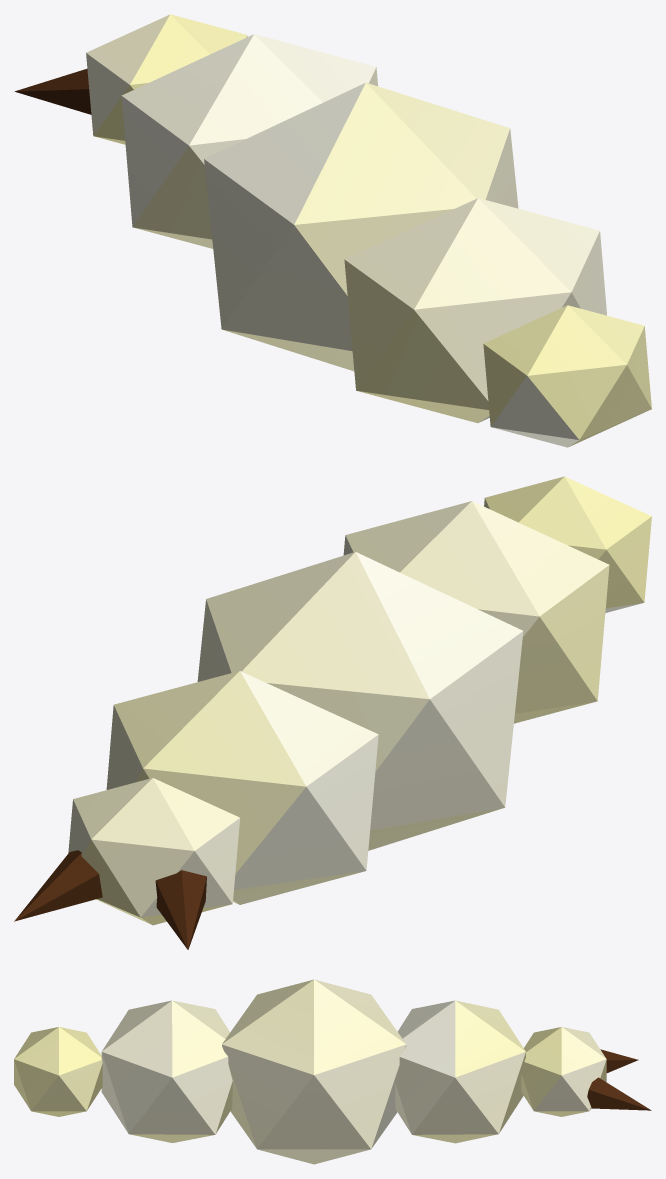
File: larva_pivot_point.fbx
The picture shows the model from 3 angles, top to bottom: view 1: azimuth 30°, elevation 25°; view 2: azimuth 150°, elevation 25°; view 3: azimuth 270°, elevation 25°; orthographic projection. The views are drawn at different scales.
Visible parts, largest first — view 1: Icosphere.016; view 2: Icosphere.016; view 3: Icosphere.016.
Boxes of the visible parts, x1,y1,x2,y2 form: Icosphere.016: [14, 14, 651, 447]; Icosphere.016: [14, 476, 651, 949]; Icosphere.016: [14, 979, 651, 1164].
Size of the model in its own units: 153 by 148 by 464.
Materials: 2 (1 with a texture image).
